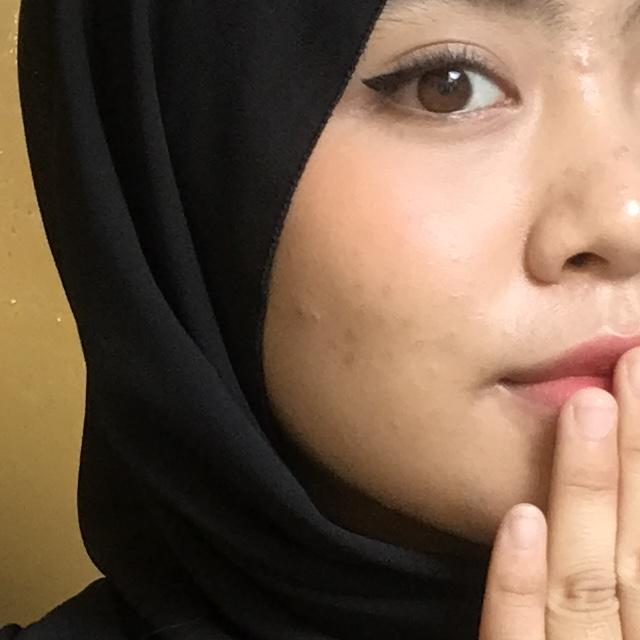ganteng: (380, 296, 640, 640)
